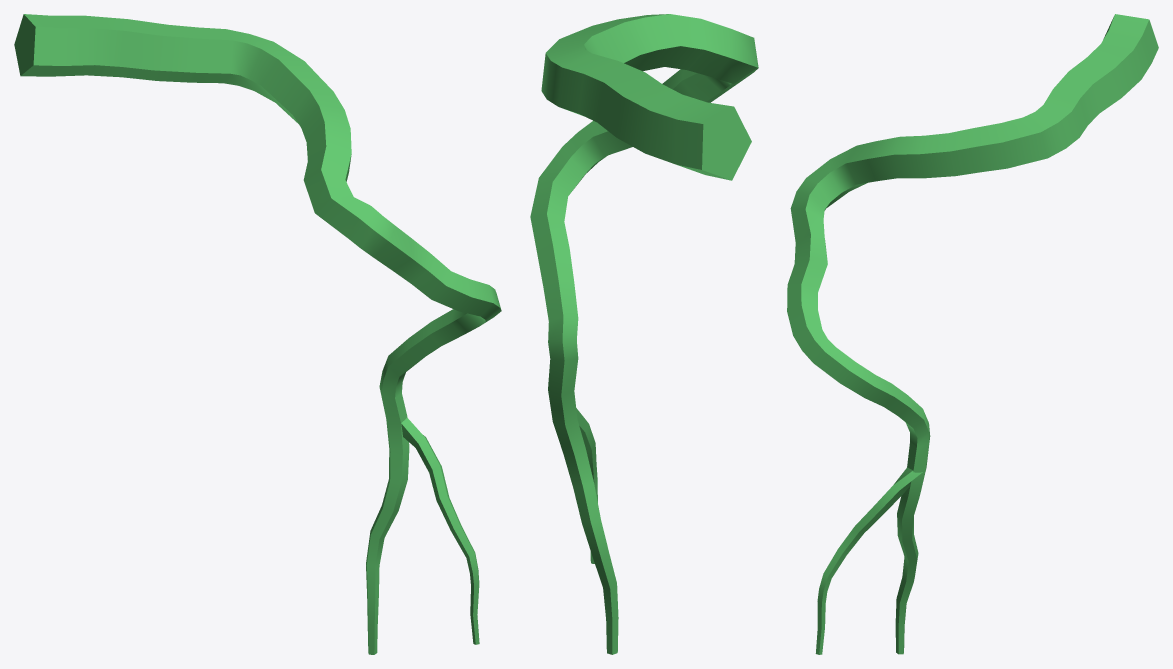
The model's file is roots_solo_C_D.fbx.
The picture shows the model from 3 angles, left to right: view 1: azimuth 30°, elevation 25°; view 2: azimuth 150°, elevation 25°; view 3: azimuth 270°, elevation 25°; orthographic projection. The views are drawn at different scales.
Parts seen in each view (by area): view 1: roots_solo_C_D; view 2: roots_solo_C_D; view 3: roots_solo_C_D.
Part boxes in pixels (x1=…): roots_solo_C_D: x1=14, y1=14, x2=501, y2=654; roots_solo_C_D: x1=530, y1=14, x2=758, y2=654; roots_solo_C_D: x1=787, y1=14, x2=1158, y2=654.
Size of the model in its own units: 135 by 243 by 151.
